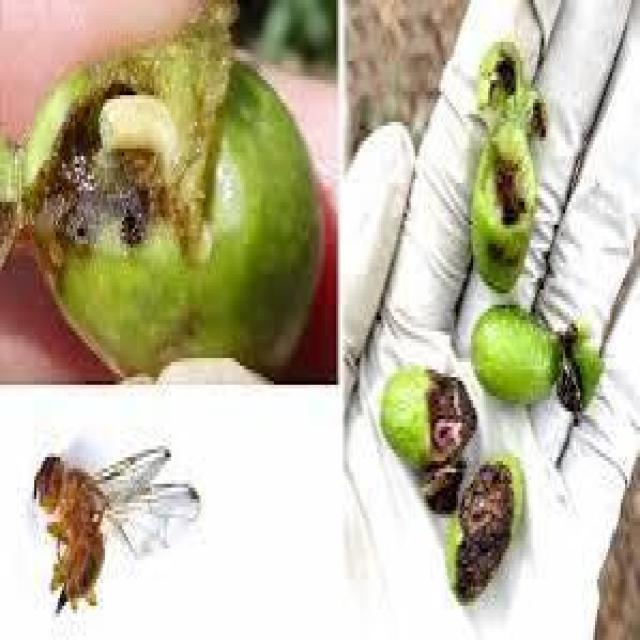Olive Fruit Fly: (0, 0, 328, 377), (379, 366, 522, 598), (469, 34, 546, 290), (471, 305, 614, 423)
